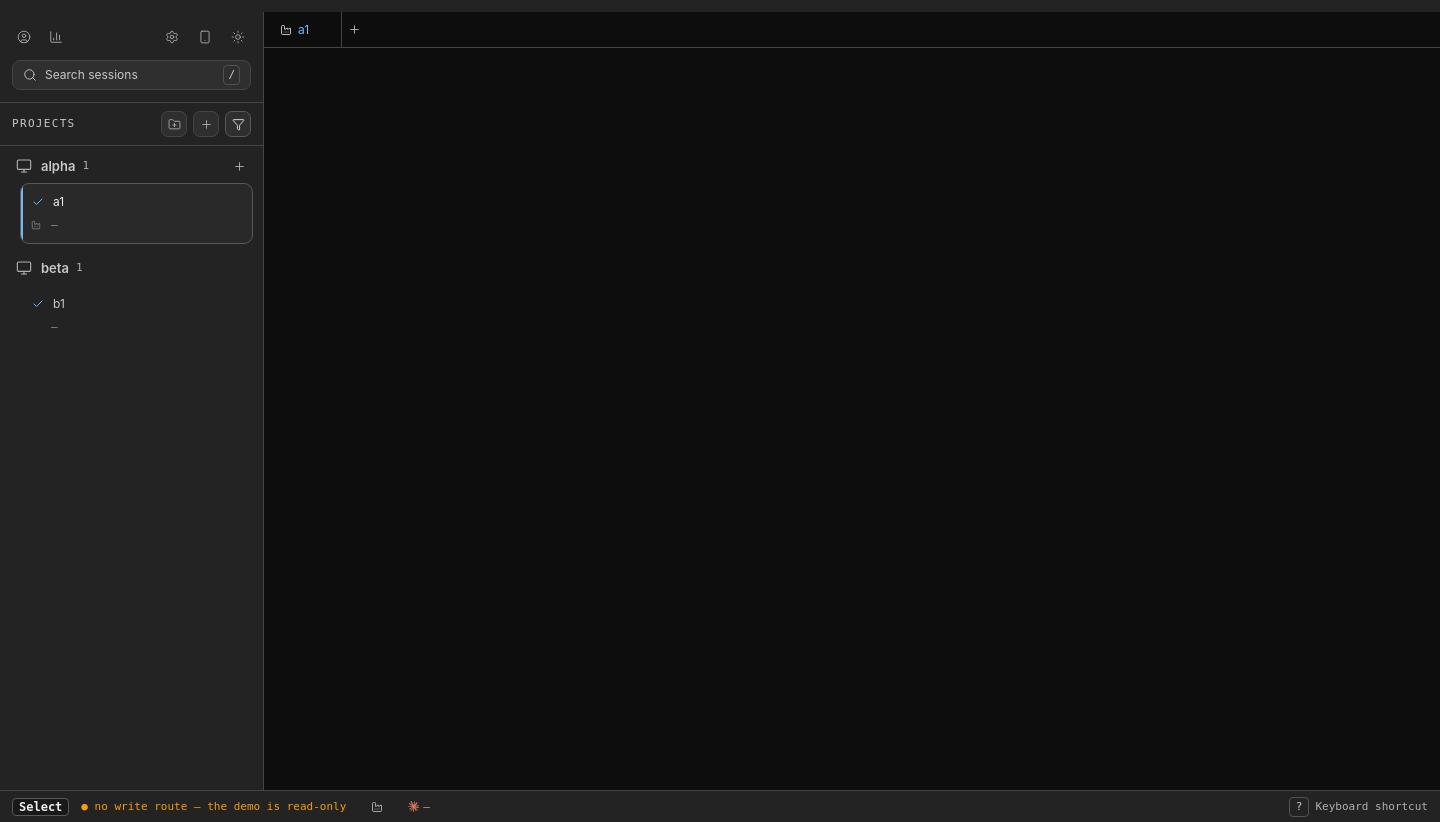
Test: the project heading icon picker › a project with no source refuses rather than guessing a fallback
This screenshot has width=1440, height=822.
Click the button named "change icon for beta" at (24, 268), box [14, 258, 34, 278]
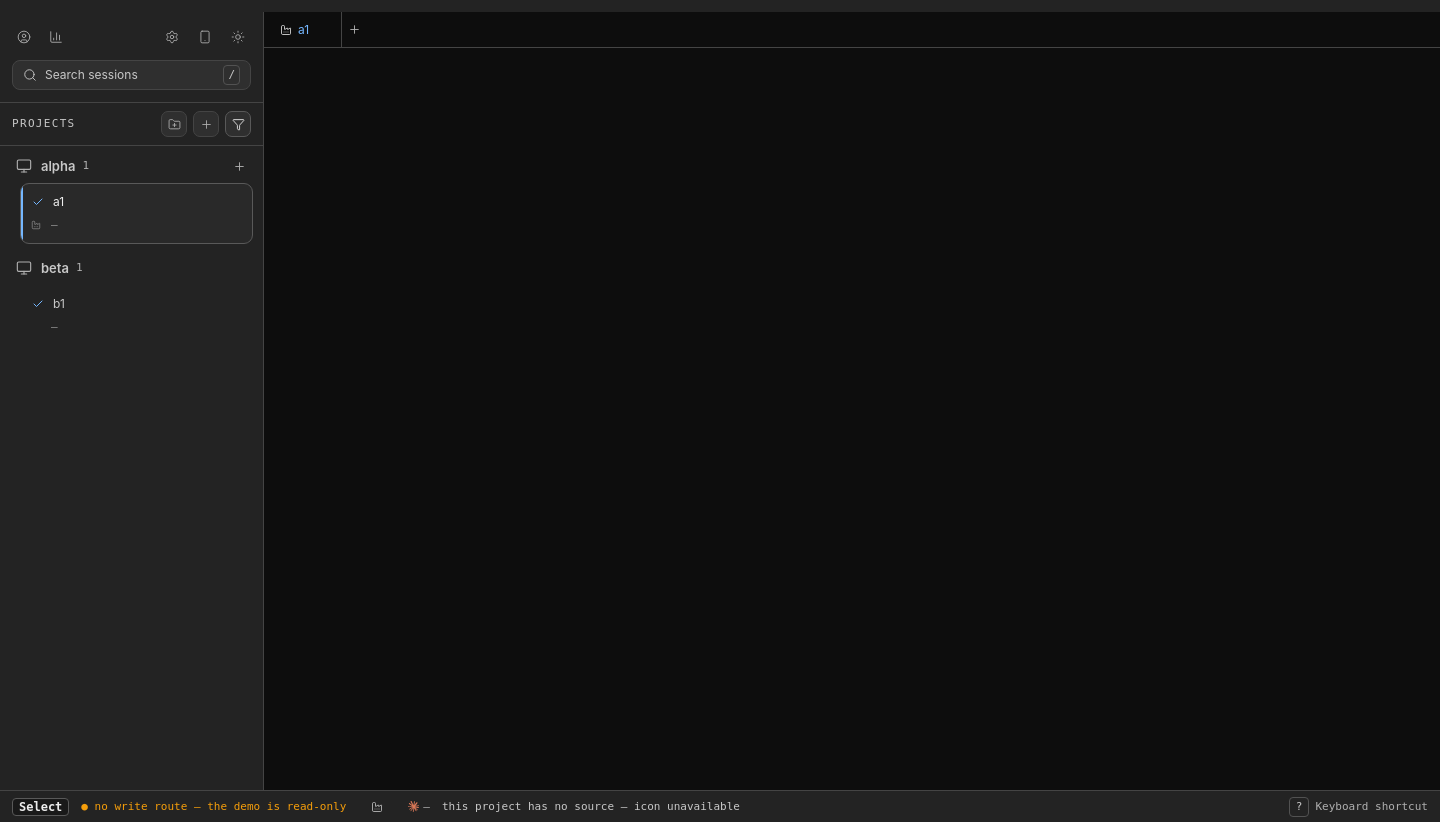
Expected: the footer shows "no source — icon unavailable", [442, 800, 740, 812]
